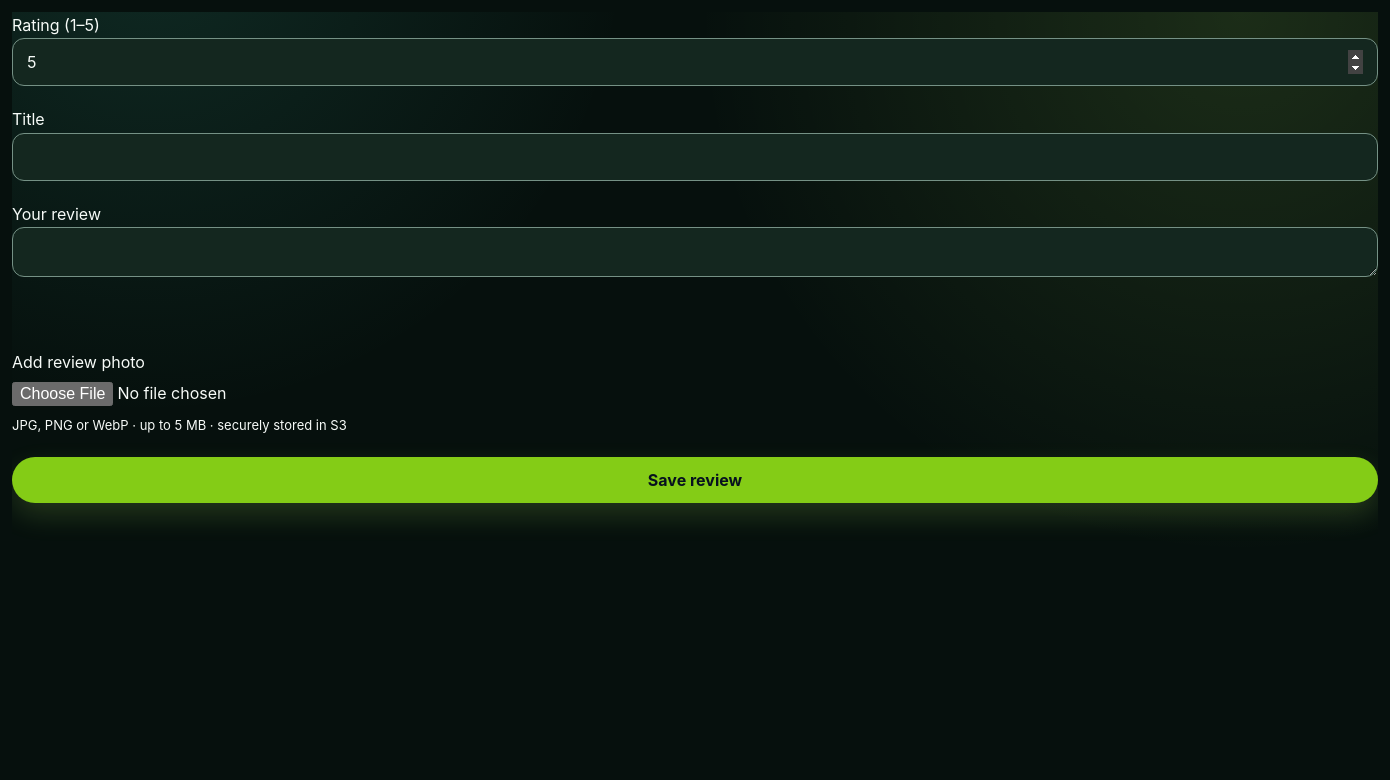
shows actionable API failure without reporting success
The image size is (1390, 780).
Type "  Helpful gym staff  " into the text box named "body" at point(695, 252), box [12,227,1378,277]
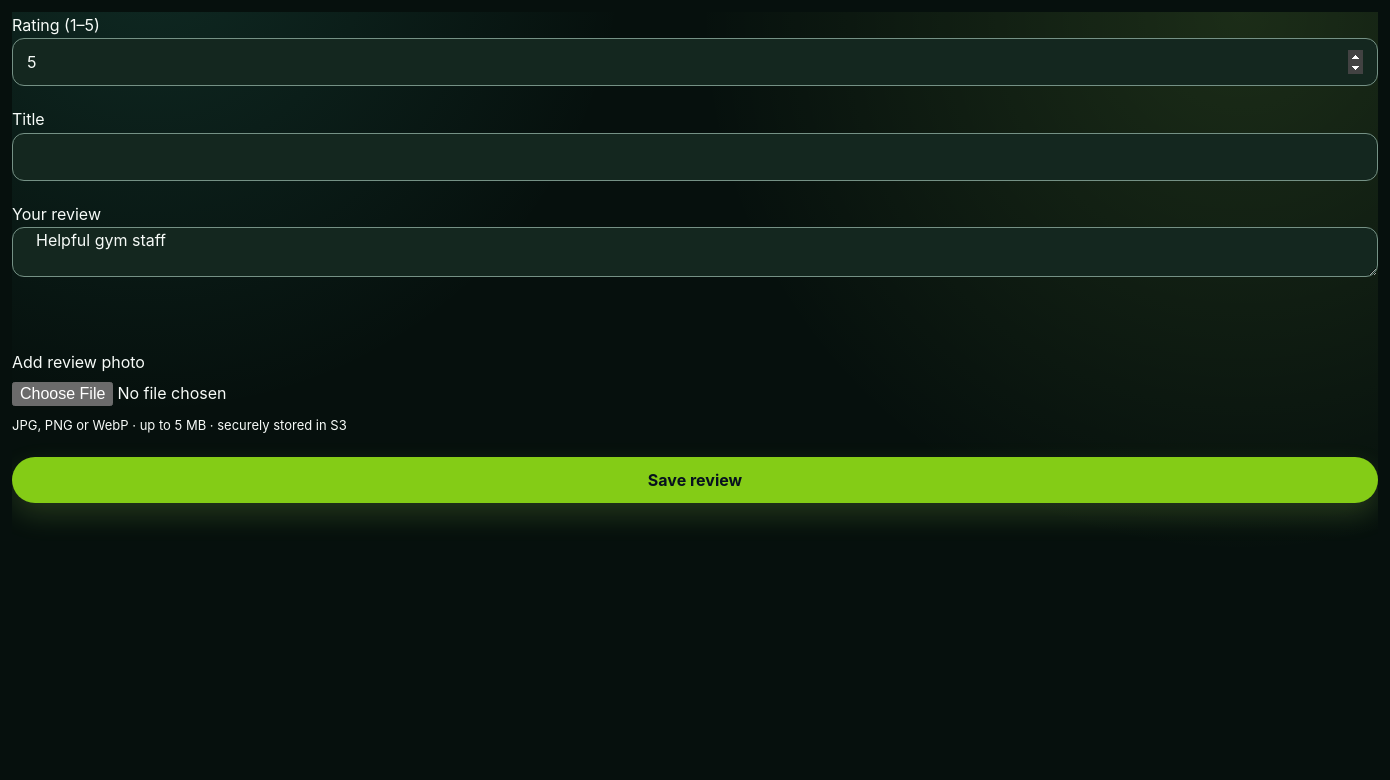
Submit the form
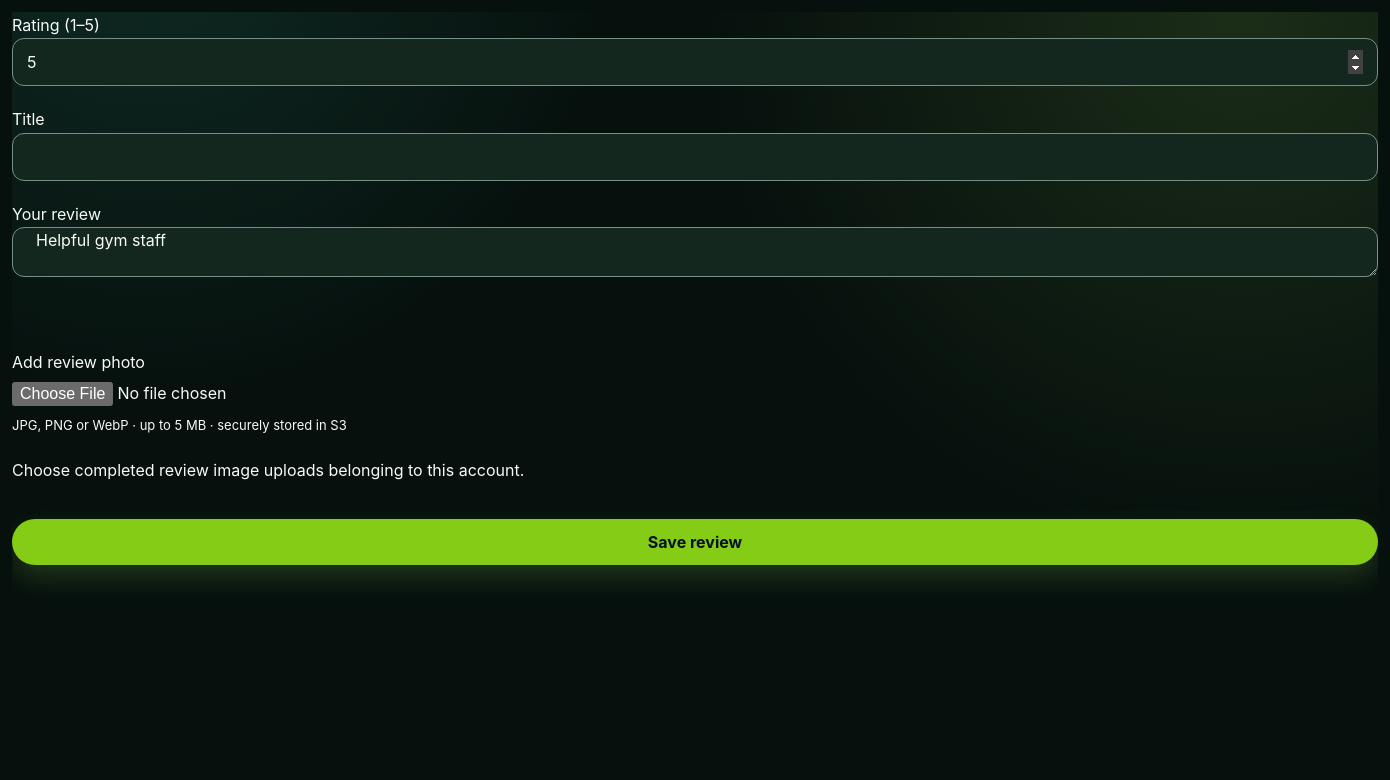
Expected: the message "Choose completed review image uploads belonging to this account." is shown, [12,460,524,480]
